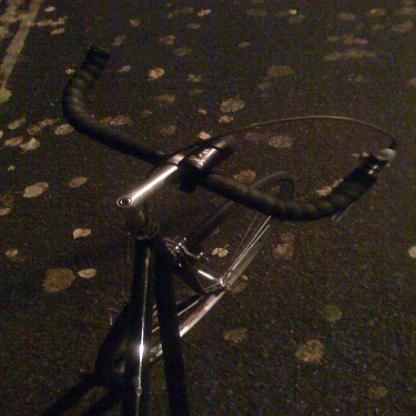bicycle: (61, 43, 403, 415)
